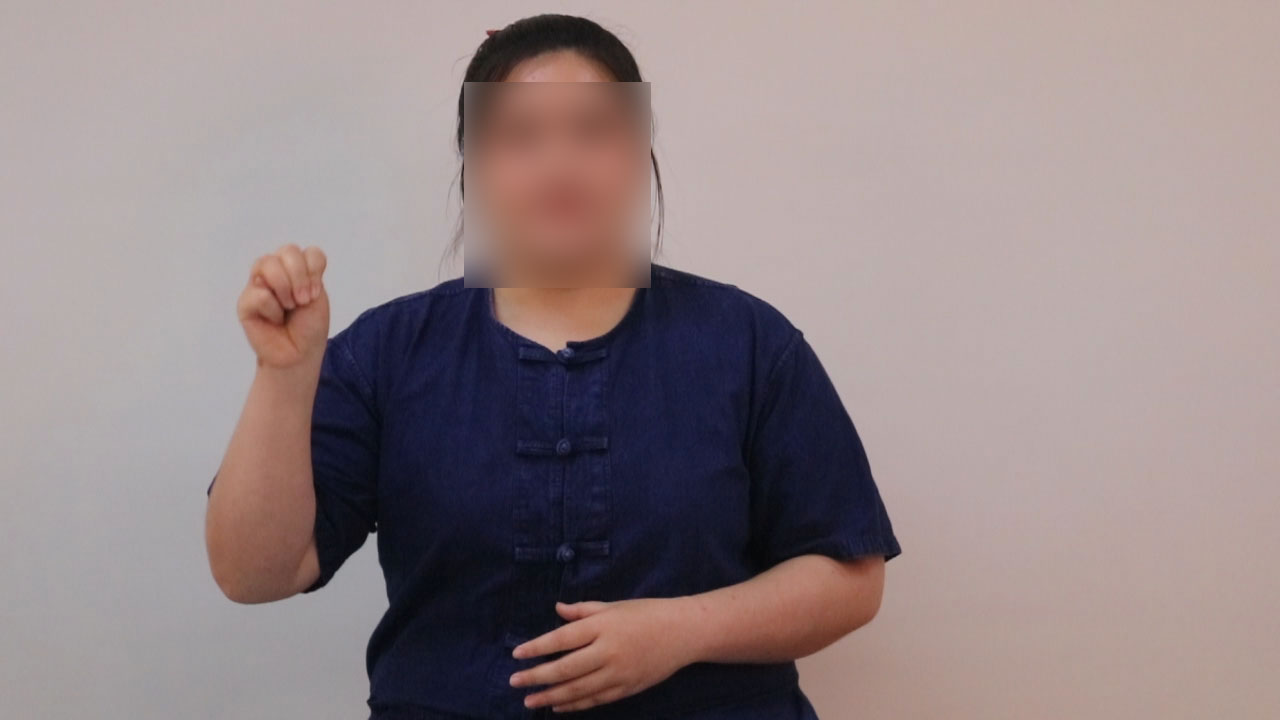mor: (227, 228, 338, 378)
